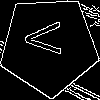V: (24, 20, 71, 56)
